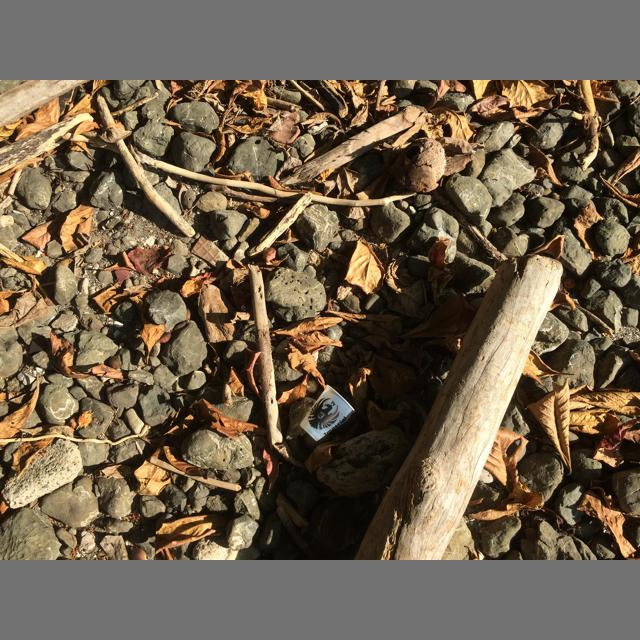litter: (300, 385, 355, 441)
